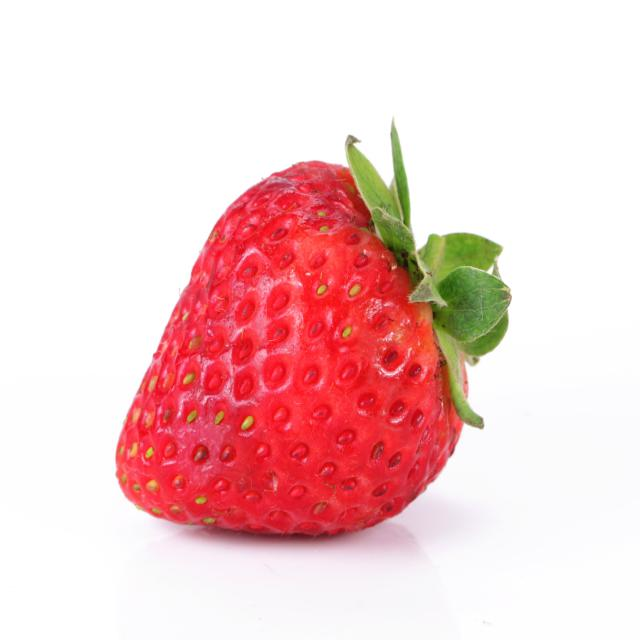strawberry: (85, 123, 551, 559)
